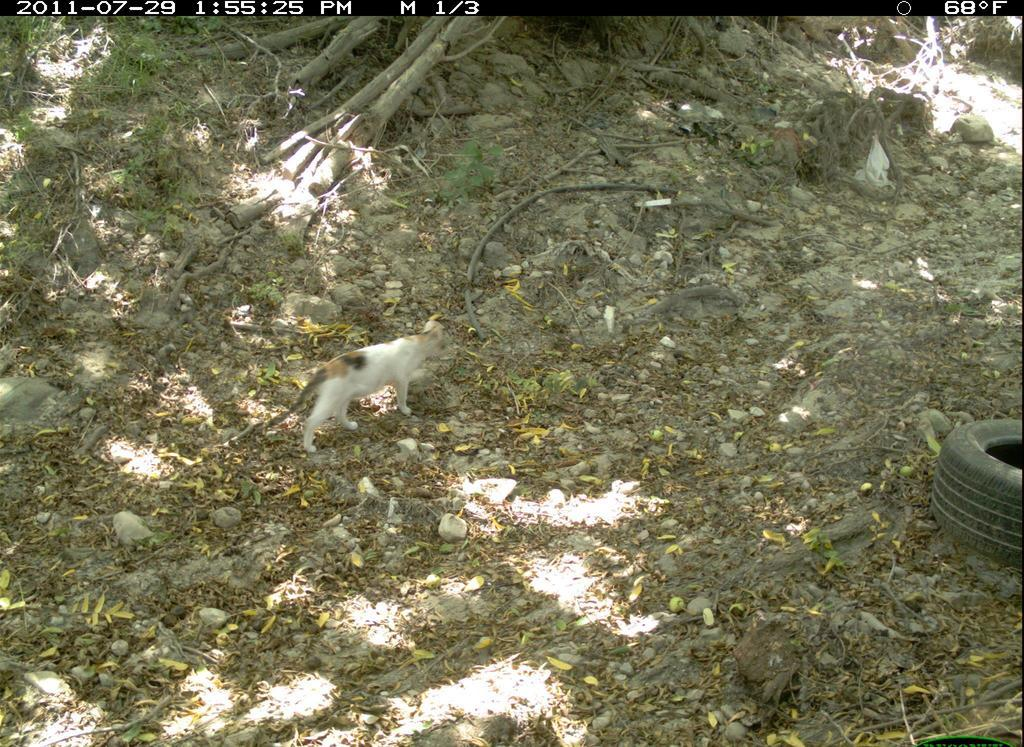cat: (271, 317, 460, 456)
